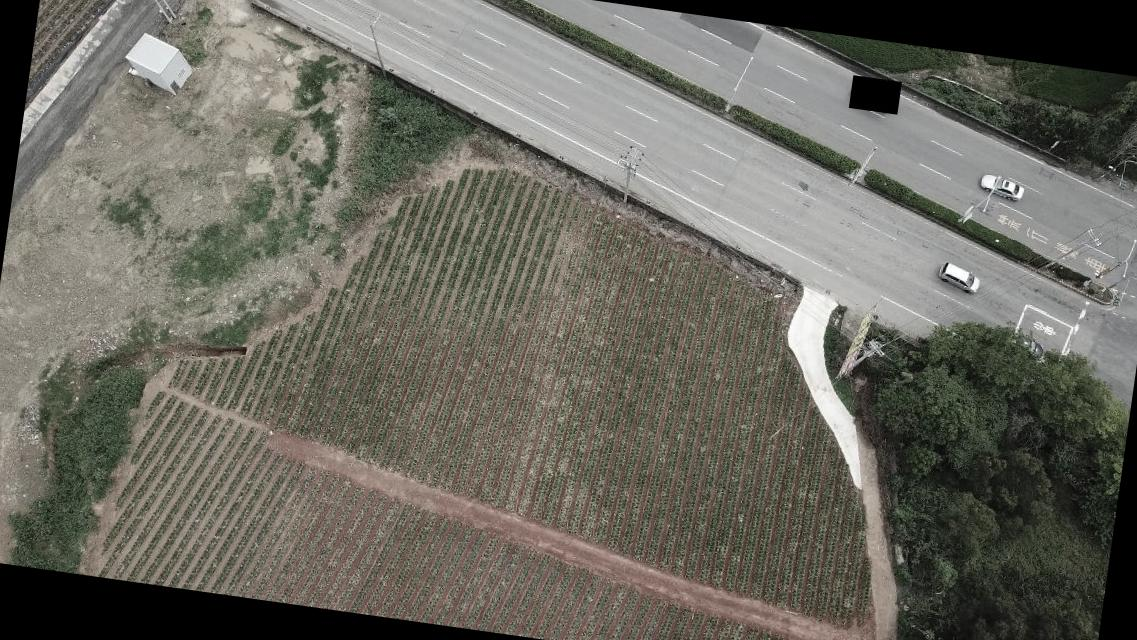vehicle: (936, 261, 982, 294), (978, 170, 1026, 201), (1009, 334, 1047, 362)
